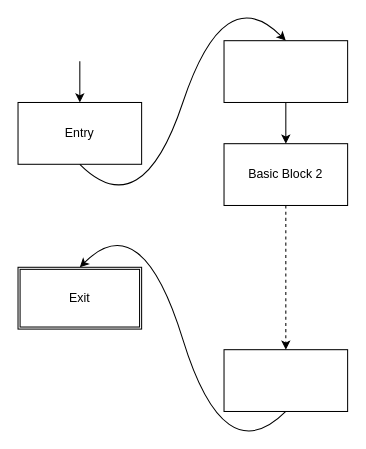
Image size: 366x449. Some labels were removed from this diagram. Each missing label, with the box of its shape:
Basic Block 1: (223, 40, 348, 102)
Basic Block N: (223, 349, 348, 411)
